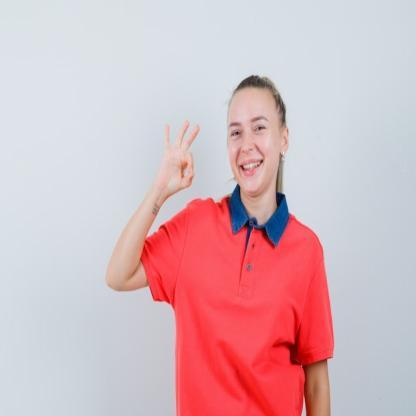ok: (158, 116, 202, 198)
